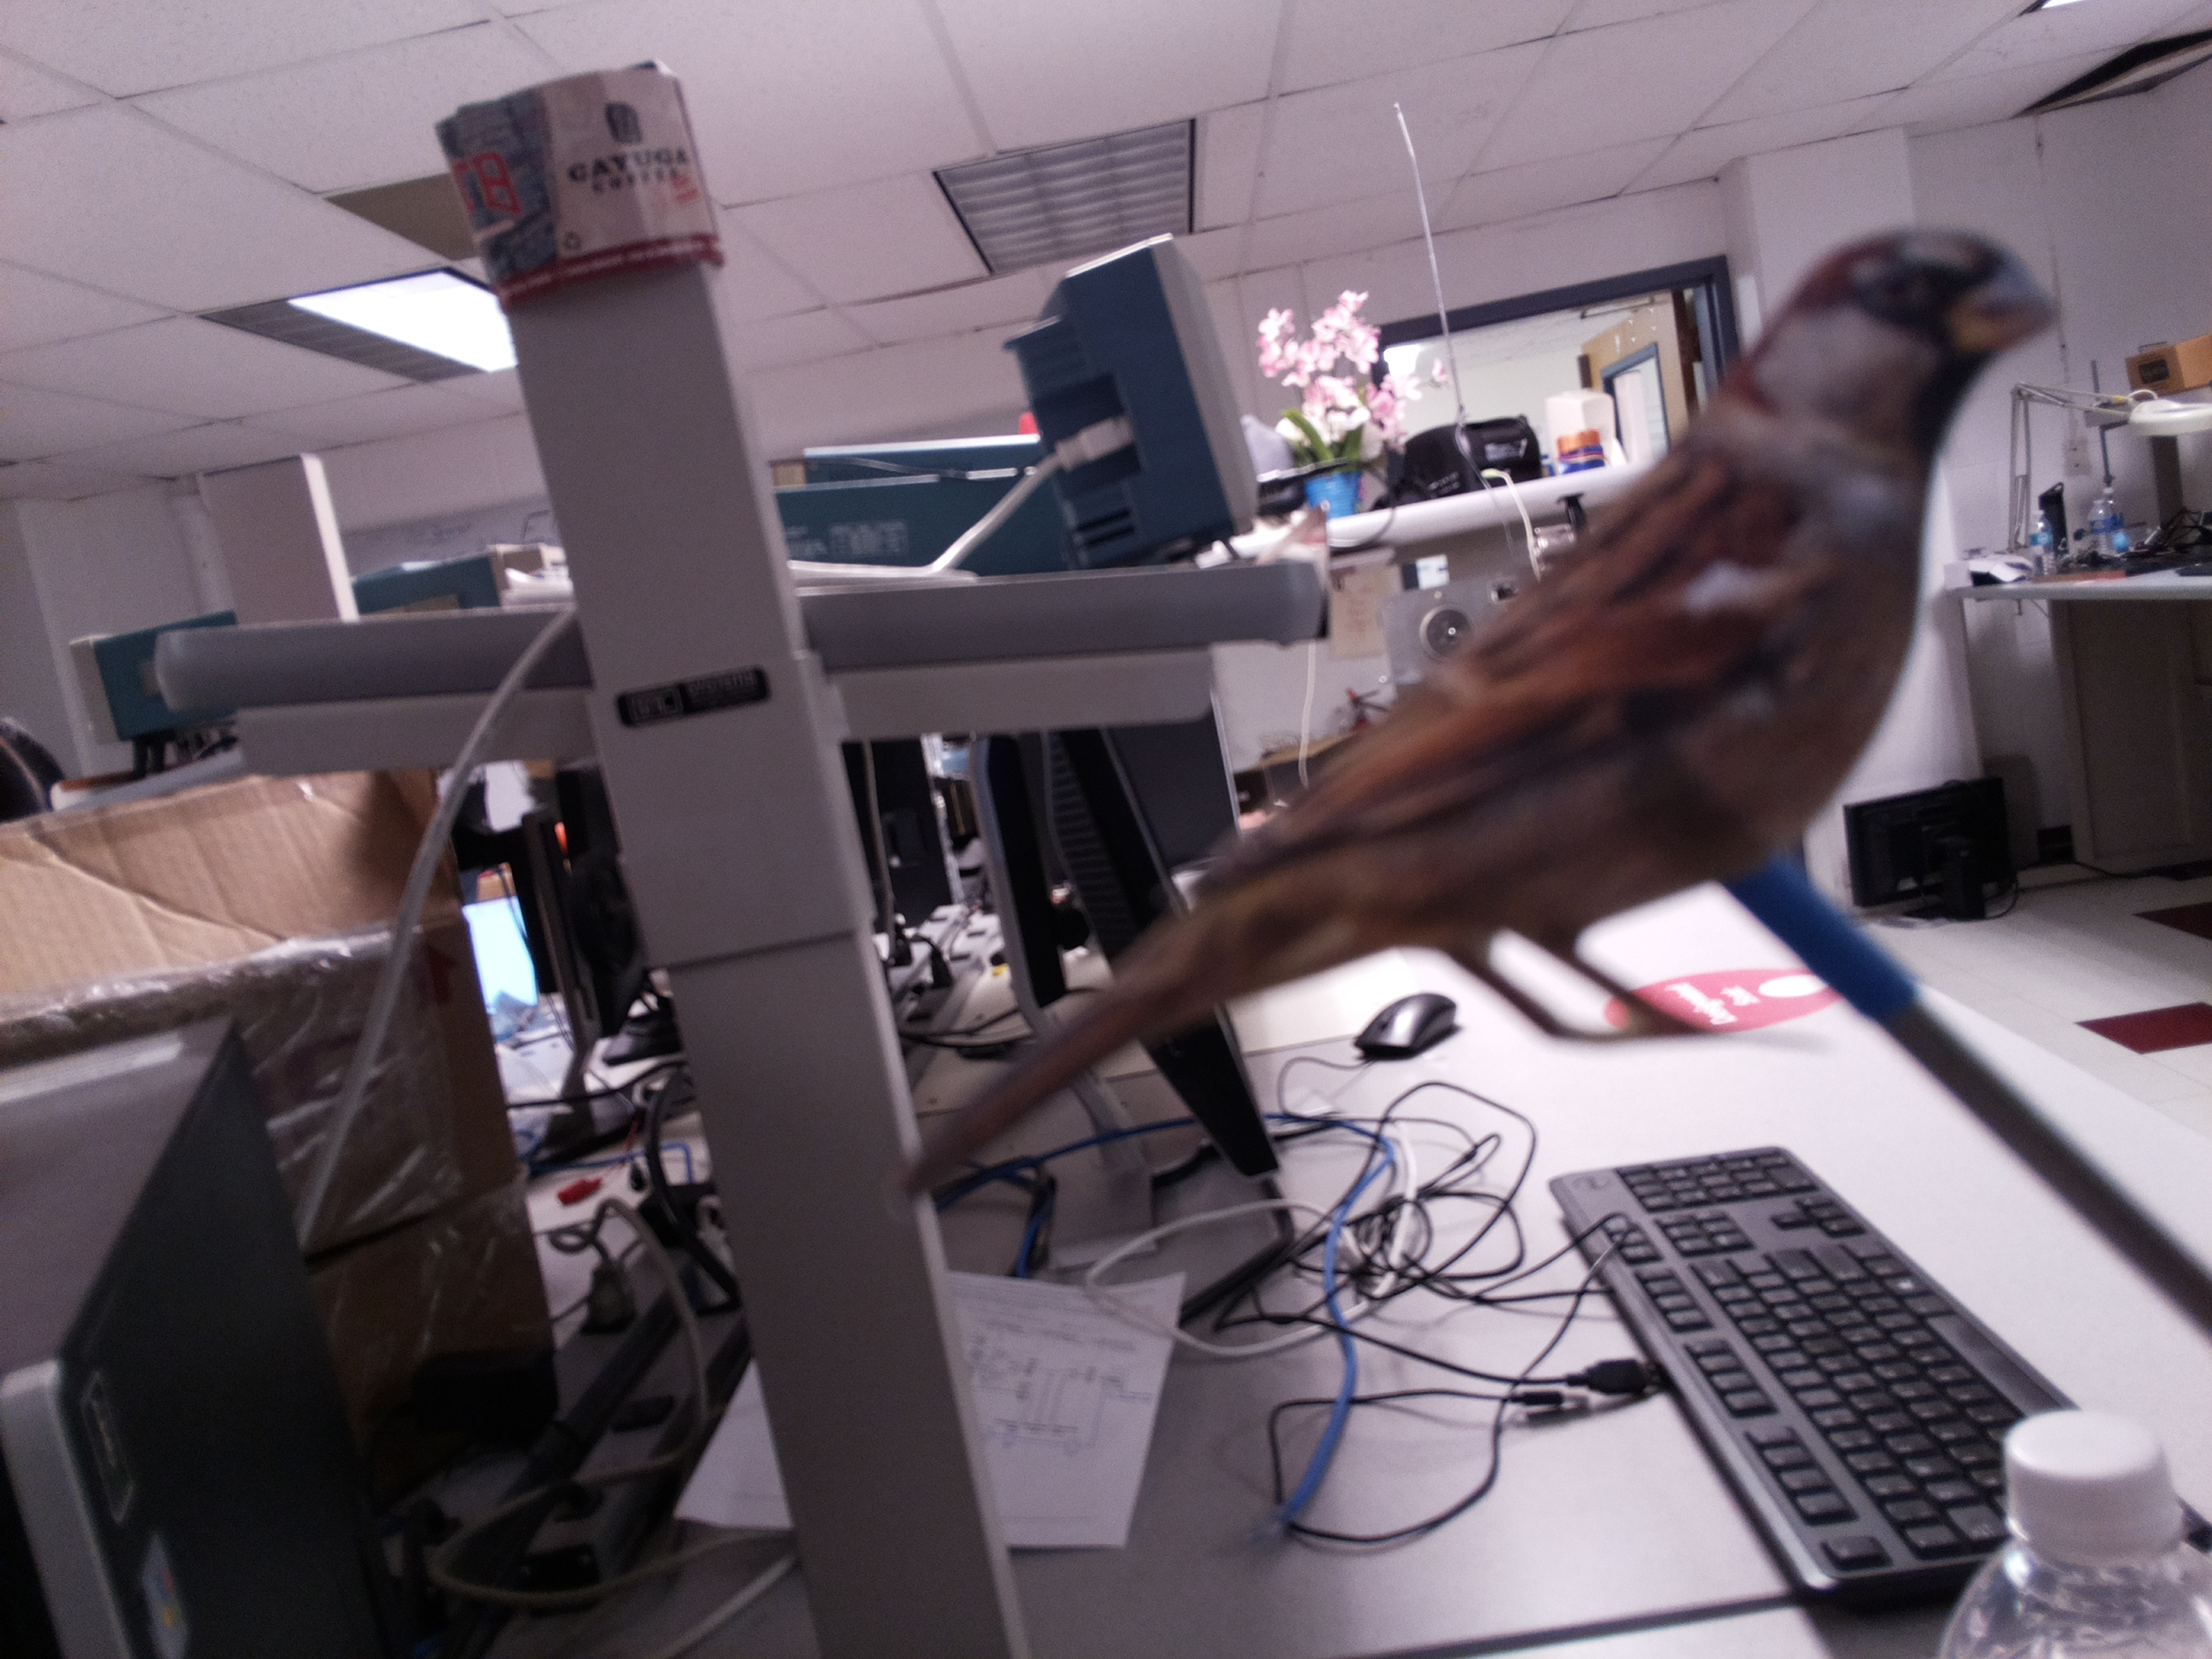bird: (874, 216, 2062, 1216)
